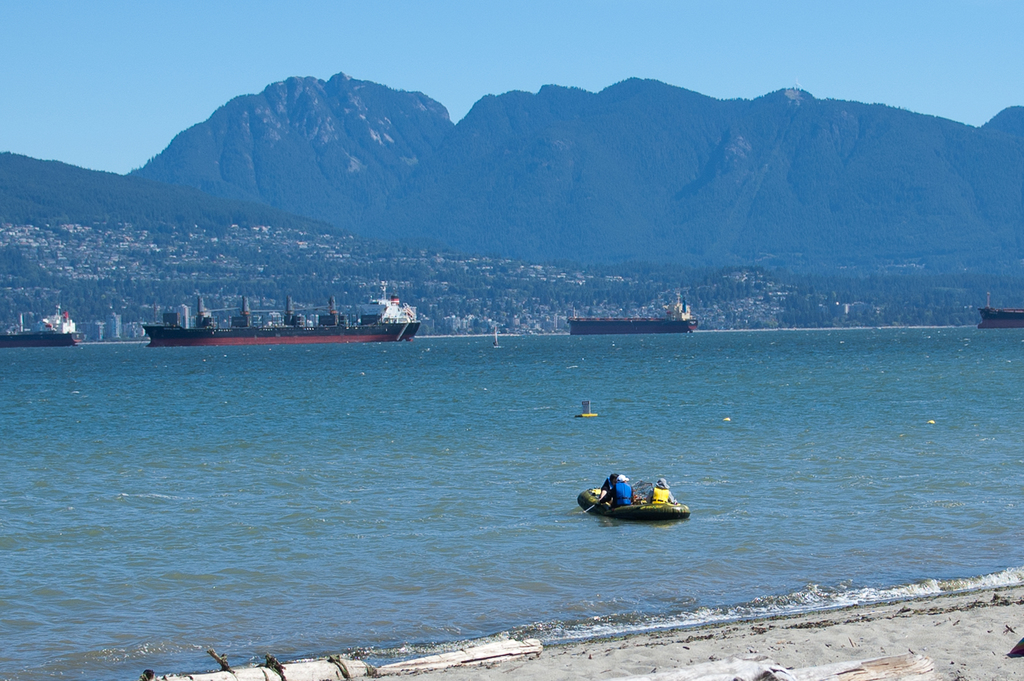boat: (134, 283, 438, 368), (555, 289, 717, 350), (1, 303, 91, 363), (970, 302, 1024, 341)
